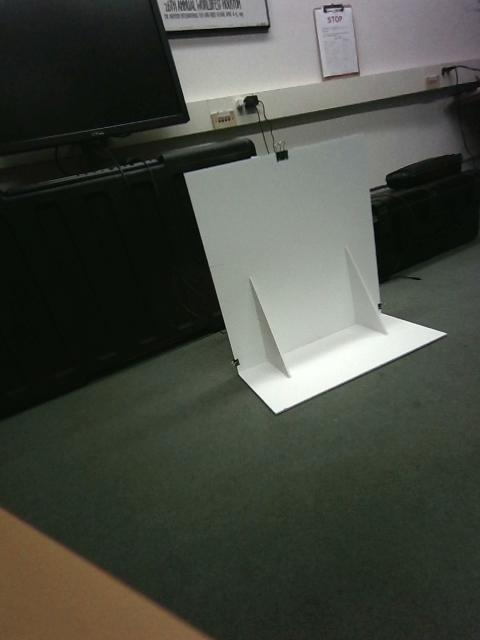block: (414, 346, 471, 439)
